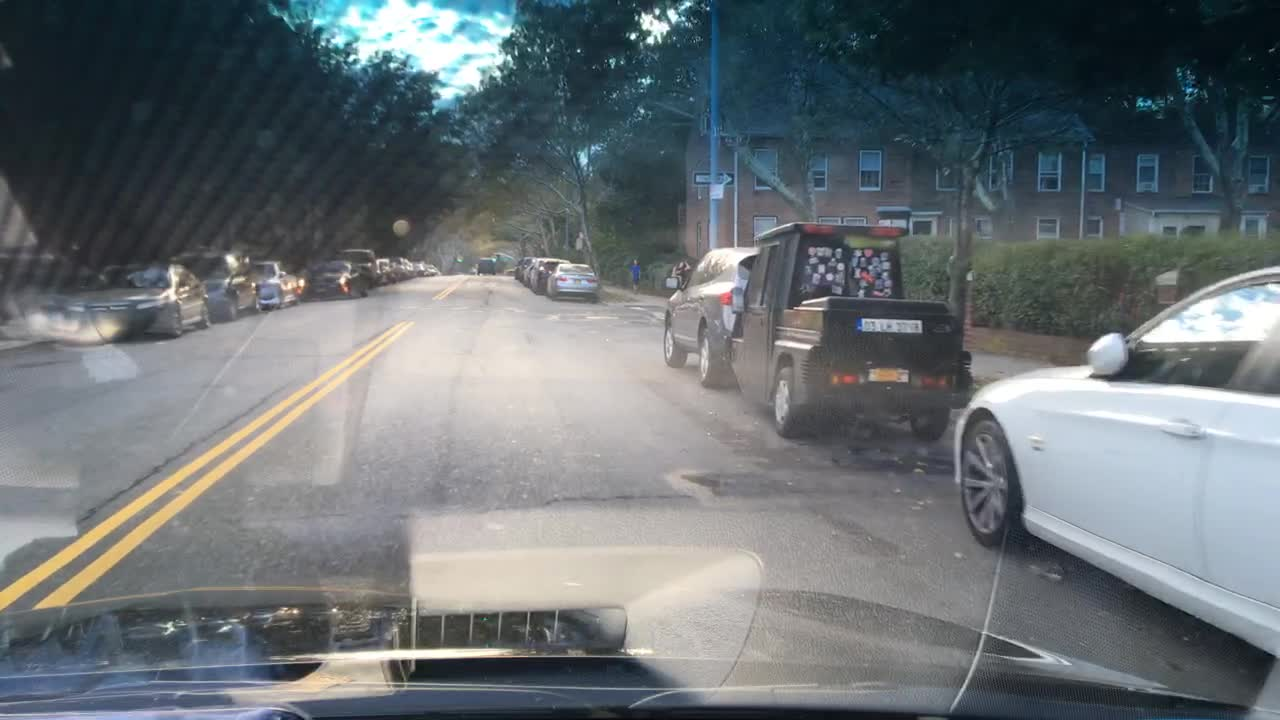car: (949, 258, 1278, 660), (663, 246, 766, 388), (37, 259, 209, 337), (169, 252, 256, 319), (252, 262, 306, 310), (310, 260, 366, 296), (548, 263, 600, 300), (340, 248, 382, 287), (528, 257, 573, 293), (525, 257, 549, 287), (376, 258, 399, 281), (517, 257, 535, 283), (397, 256, 416, 276), (476, 256, 497, 273), (419, 261, 439, 274), (515, 259, 521, 280)
person: (672, 260, 693, 300), (628, 256, 642, 294)
traffic sign: (692, 169, 733, 186)
truck: (727, 218, 974, 445)
